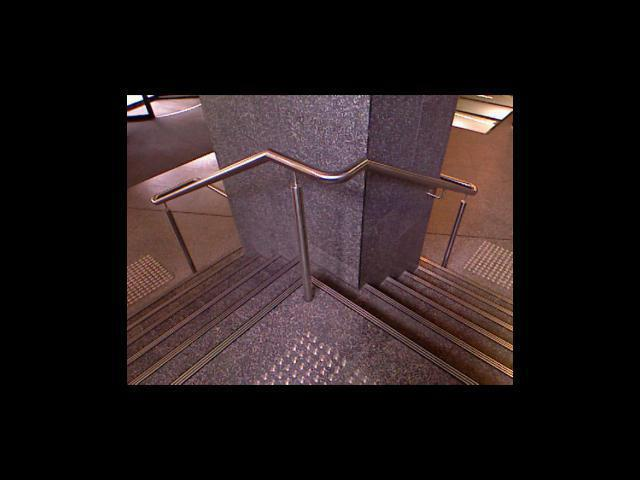Escaleras: (127, 219, 299, 384), (309, 254, 513, 384)
